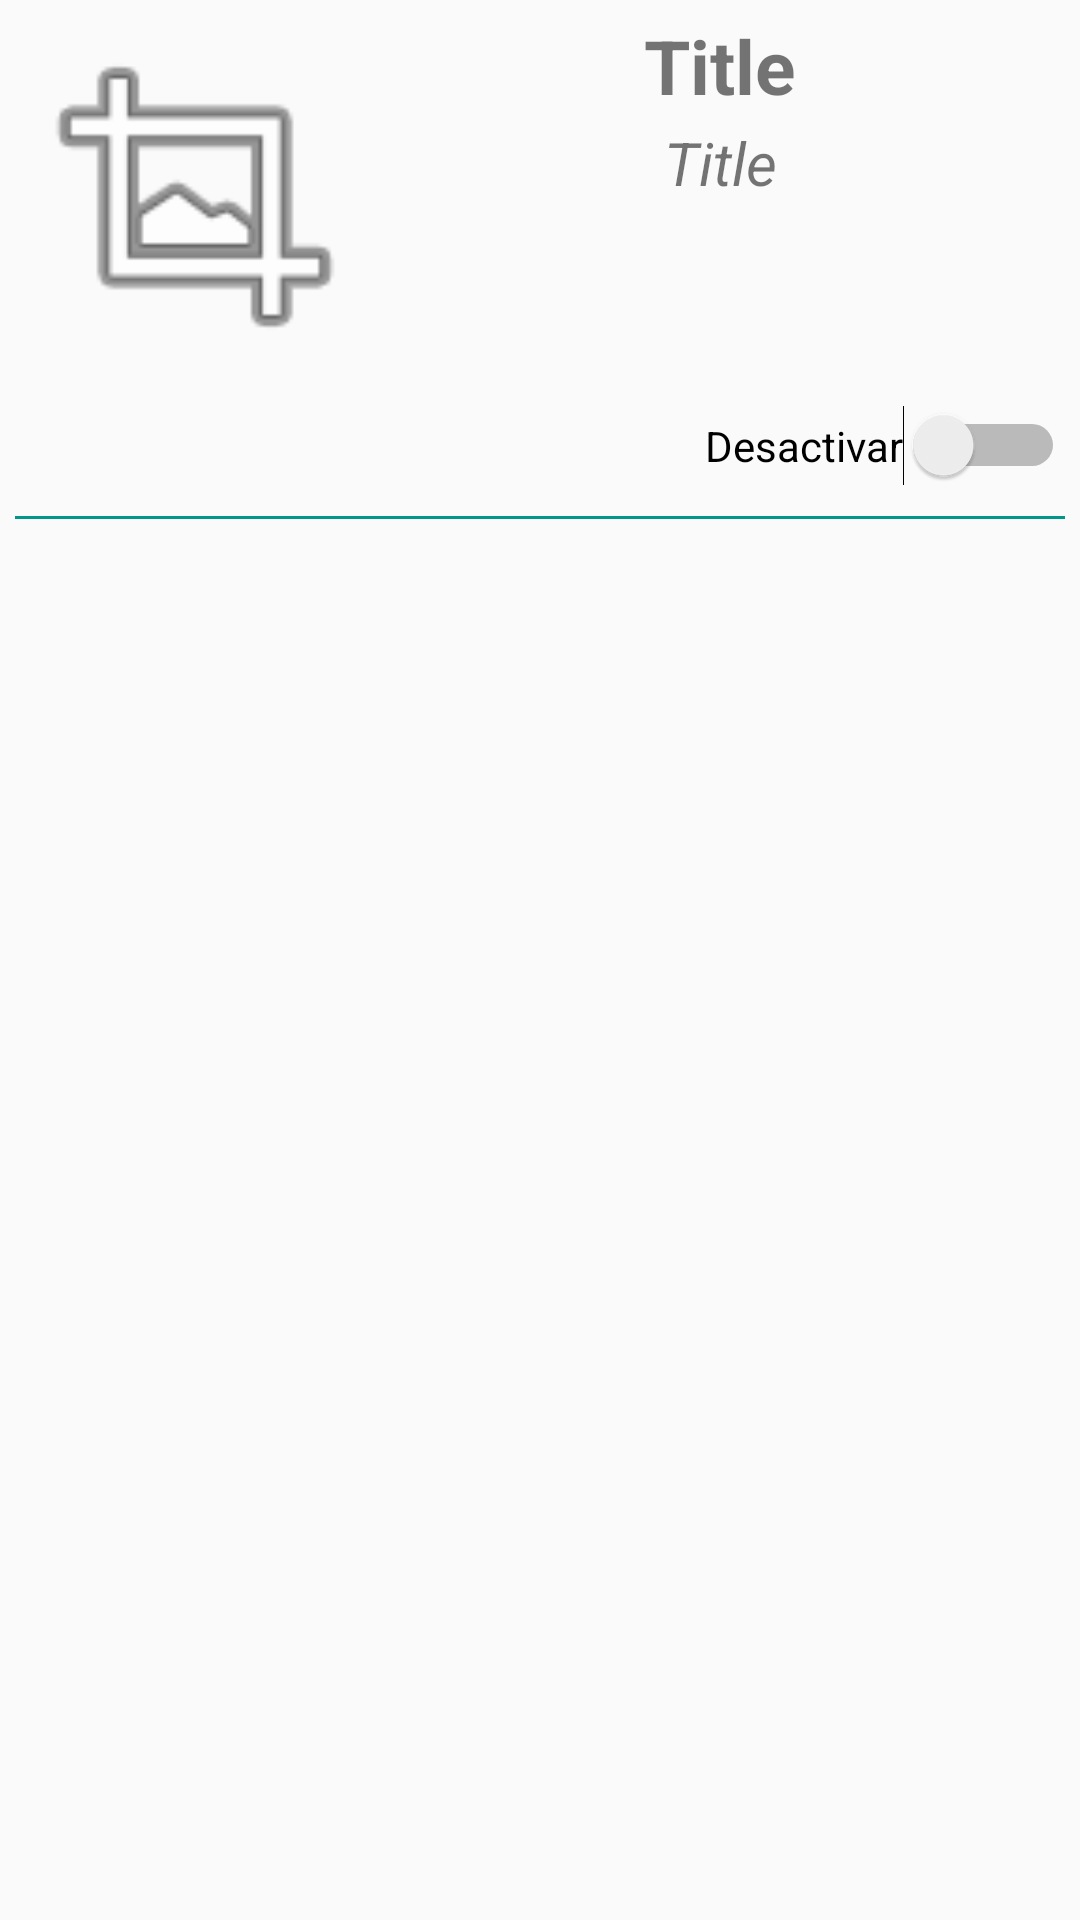

Screen size 1080×1920. Icon name, then its center in pixels as [x,y]:
crop: [195,196]
